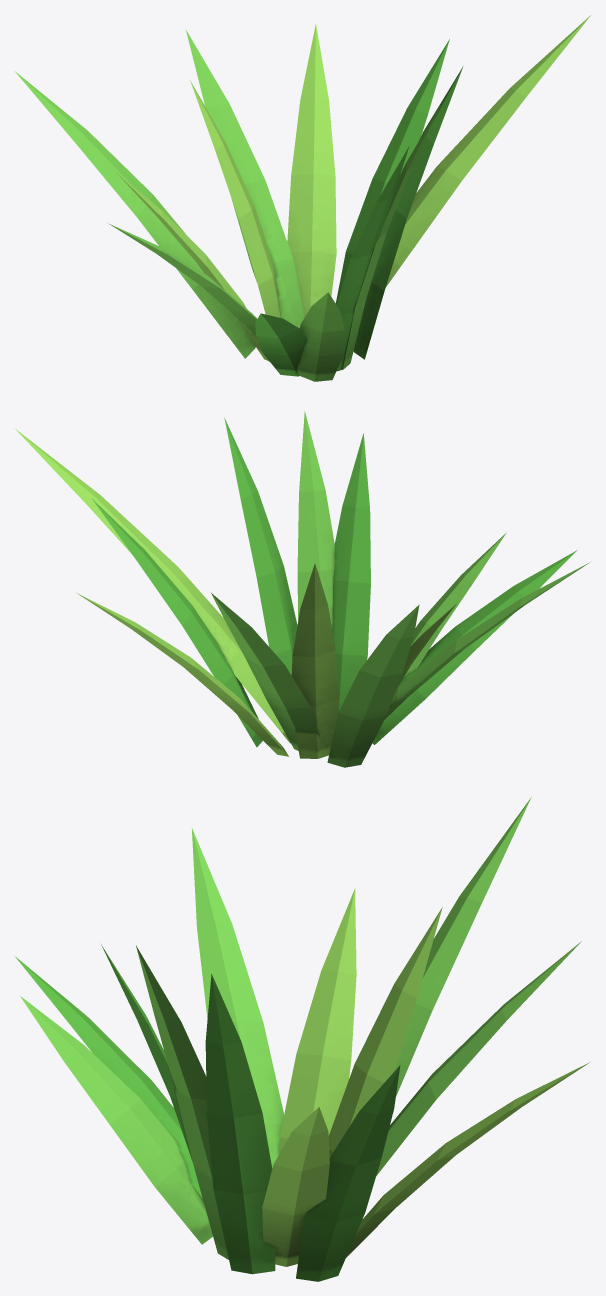
Rendered from grass_tuft.glb.
3 renders of one model, top to bottom at view 1: azimuth 30°, elevation 25°; view 2: azimuth 150°, elevation 25°; view 3: azimuth 270°, elevation 25°, orthographic. The views are drawn at different scales.
Parts seen in each view (by area): view 1: grass_tuft; view 2: grass_tuft; view 3: grass_tuft.
Boxes of the visible parts, x1,y1,x2,y2 form: grass_tuft: (15,15,590,381); grass_tuft: (14,411,589,767); grass_tuft: (14,797,589,1281).
Bounding box in the file's own units: 0.6198 × 0.3102 × 0.456.
Materials: 3 (3 with a texture image).
